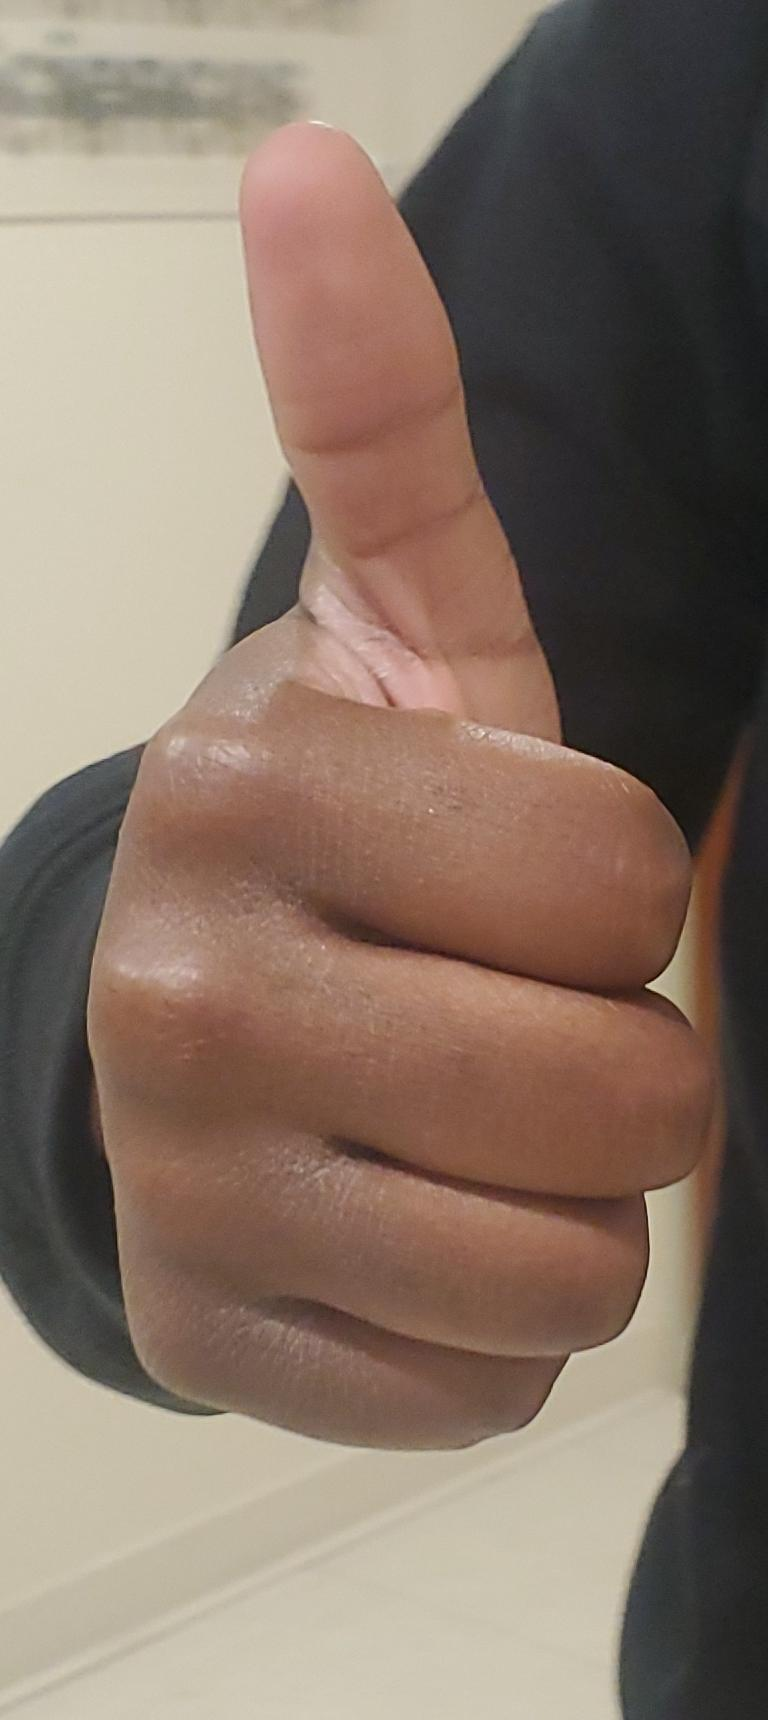up: (0, 1, 768, 1720)
